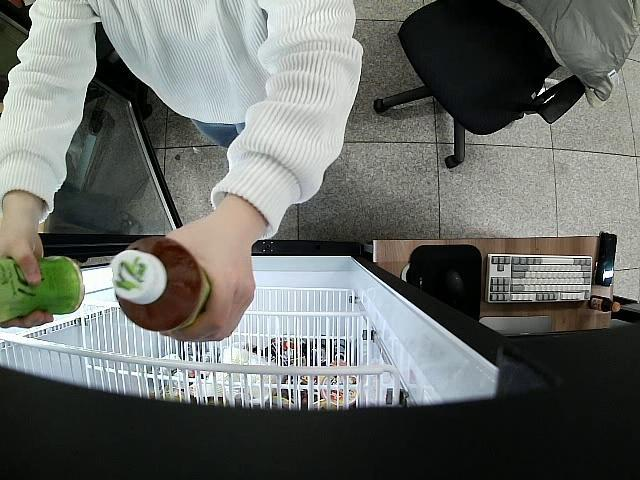19_17cha: (111, 236, 212, 336), (0, 255, 86, 326)
